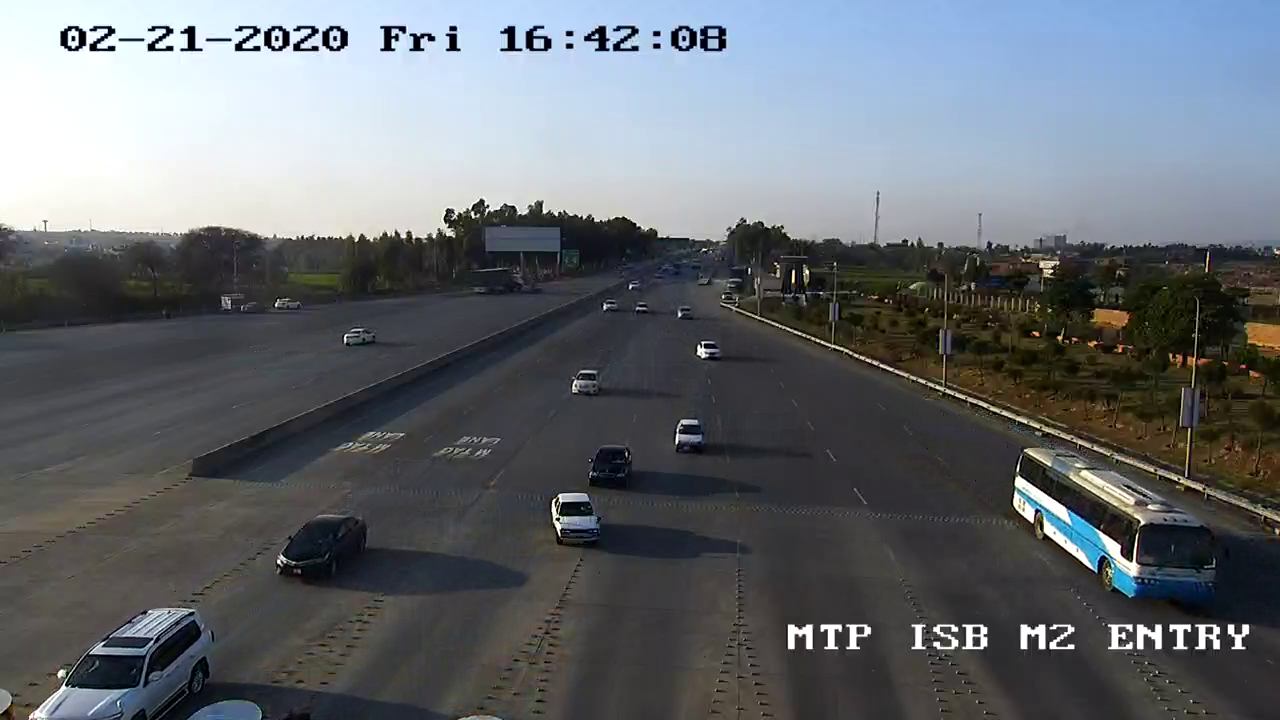f1: (268, 504, 372, 592), (542, 483, 606, 551), (583, 438, 640, 498), (666, 409, 712, 458)
f4: (1005, 427, 1228, 615)
